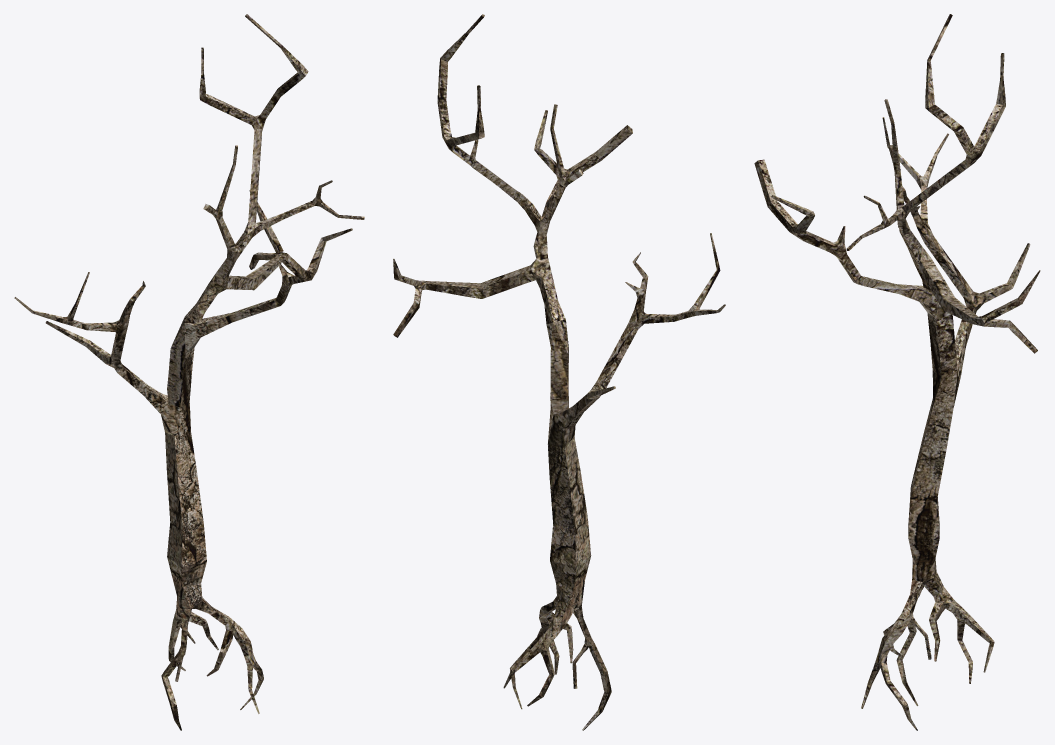
File: dead_tree_1.fbx
3 views of the same model, side by side, from view 1: azimuth 30°, elevation 25°; view 2: azimuth 150°, elevation 25°; view 3: azimuth 270°, elevation 25° (orthographic). The views are drawn at different scales.
Parts seen in each view (by area): view 1: dead_tree_1; view 2: dead_tree_1; view 3: dead_tree_1.
Part boxes in pixels (x1,y1,x2,y2): dead_tree_1: [14, 14, 364, 730]; dead_tree_1: [393, 14, 725, 730]; dead_tree_1: [754, 14, 1040, 730].
Size of the model in its own units: 552 by 1190 by 420.
Materials: 1 (1 with a texture image).
